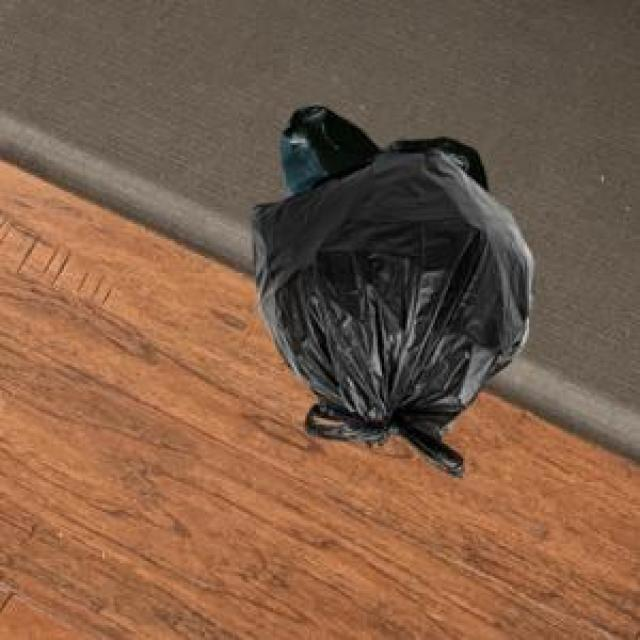waste: (252, 106, 532, 476)
